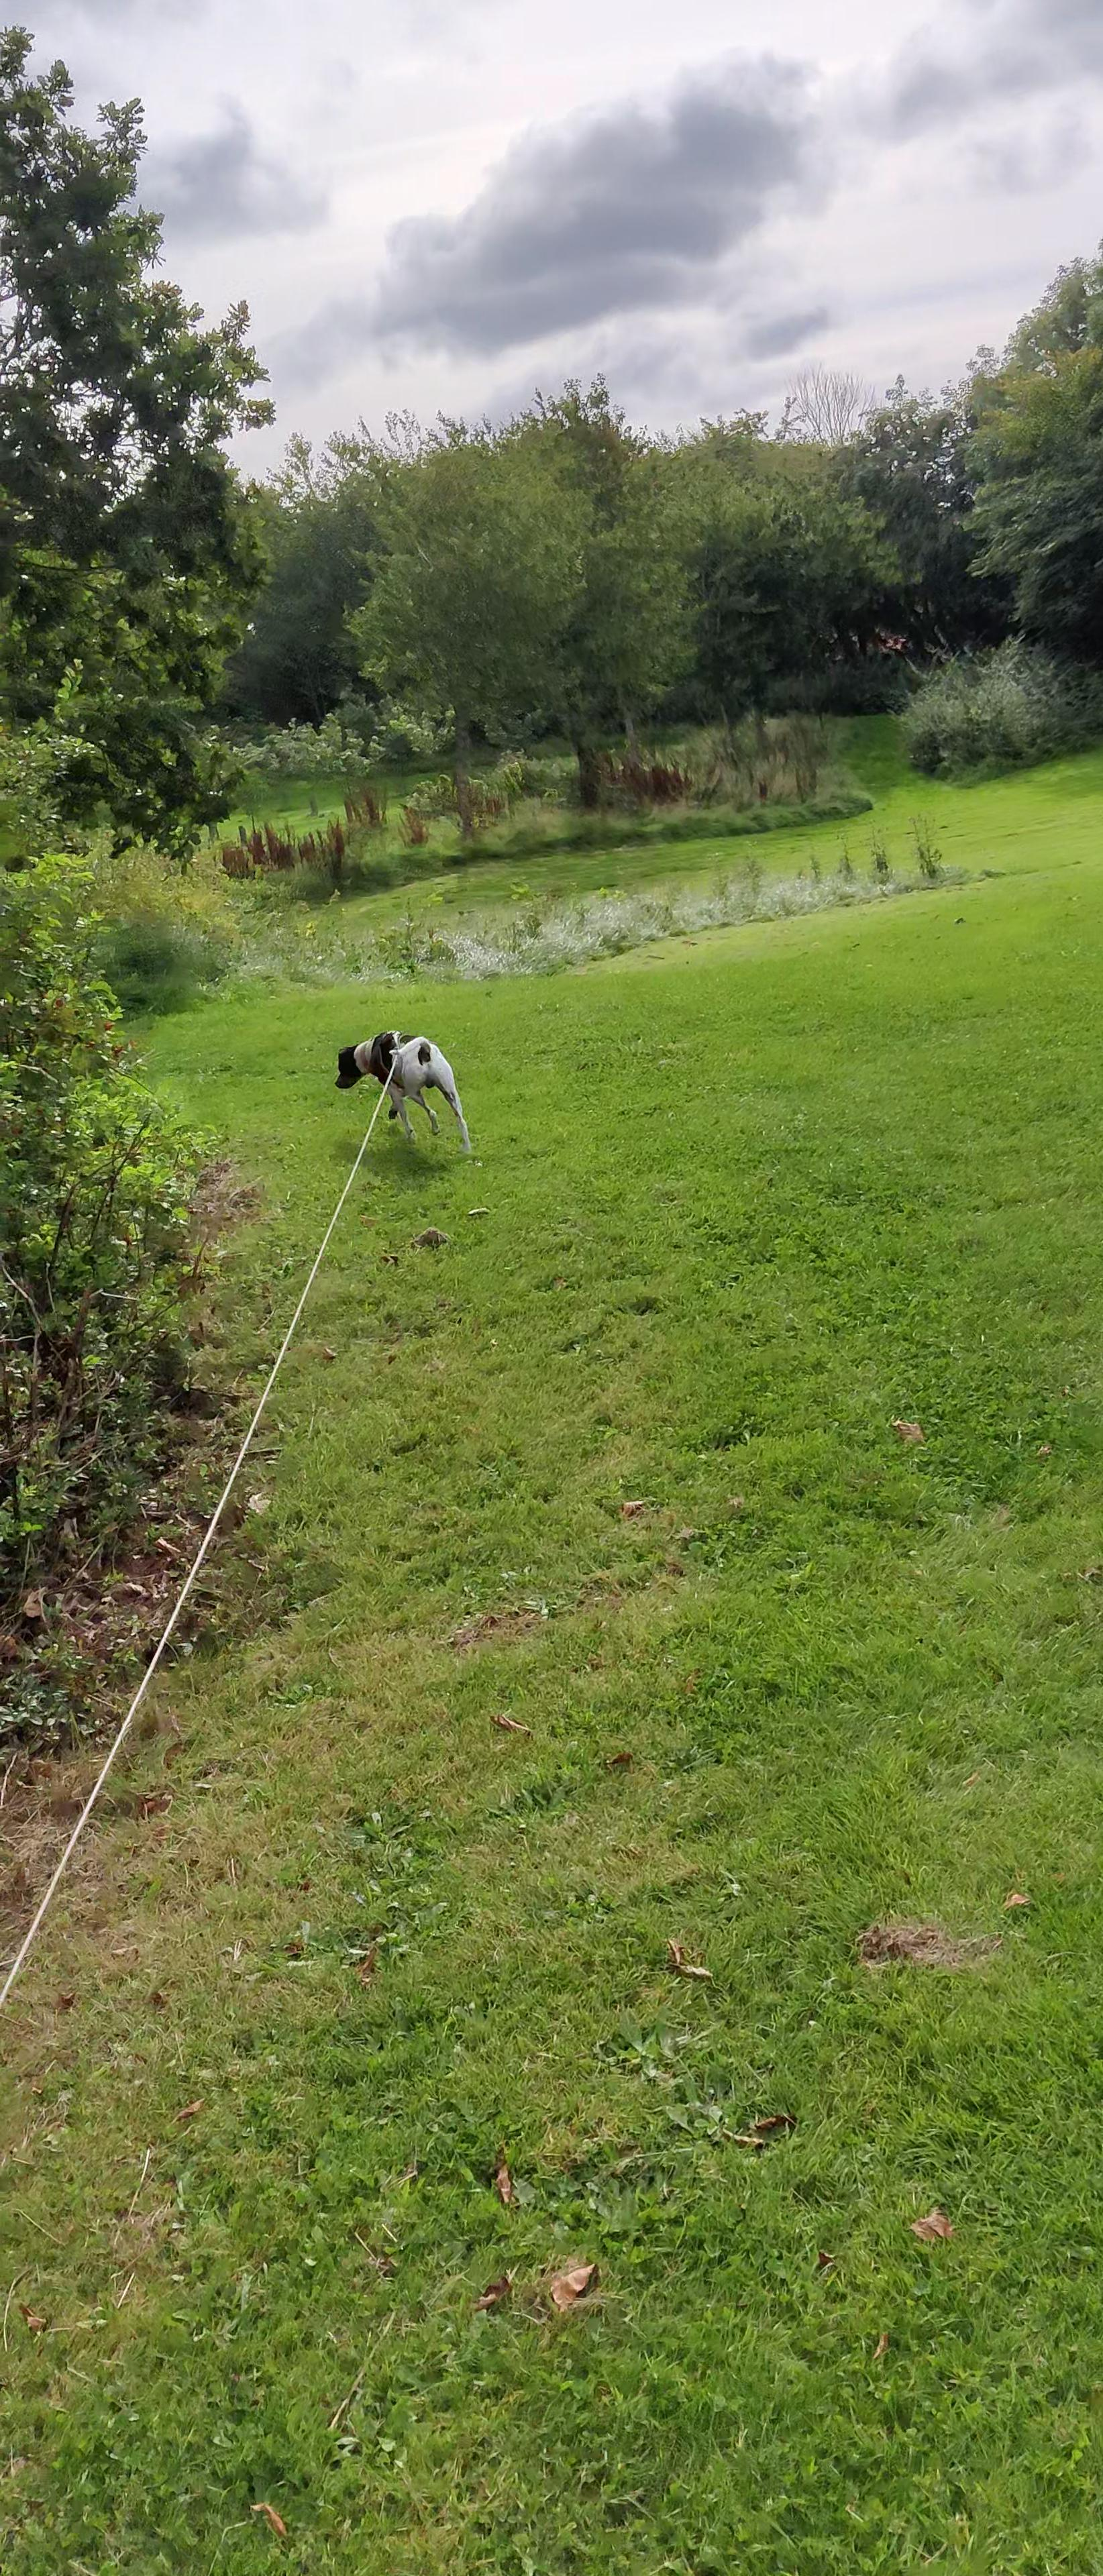Dog: (329, 1028, 473, 1153)
